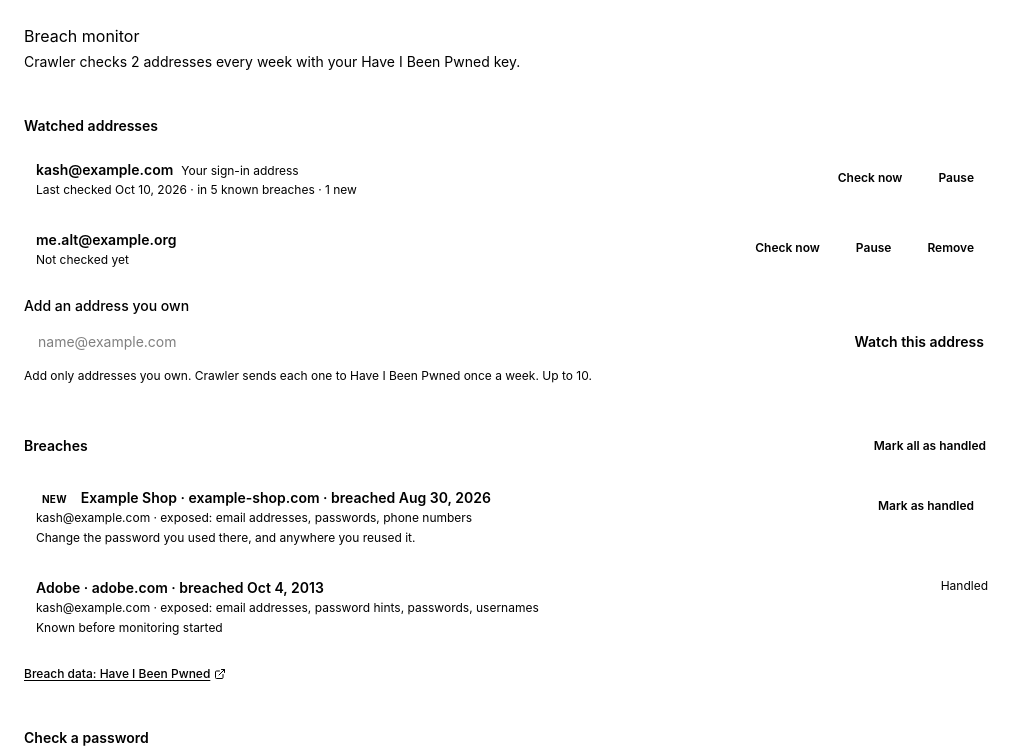
BreachMonitorTab › a 429 from Check now shows its wait message and leaves the row as it was
This screenshot has width=1024, height=753.
Click the button with aria-label "Check now: kash@example.com" at {"x": 870, "y": 178}, box x1=824 y1=160 x2=916 y2=196
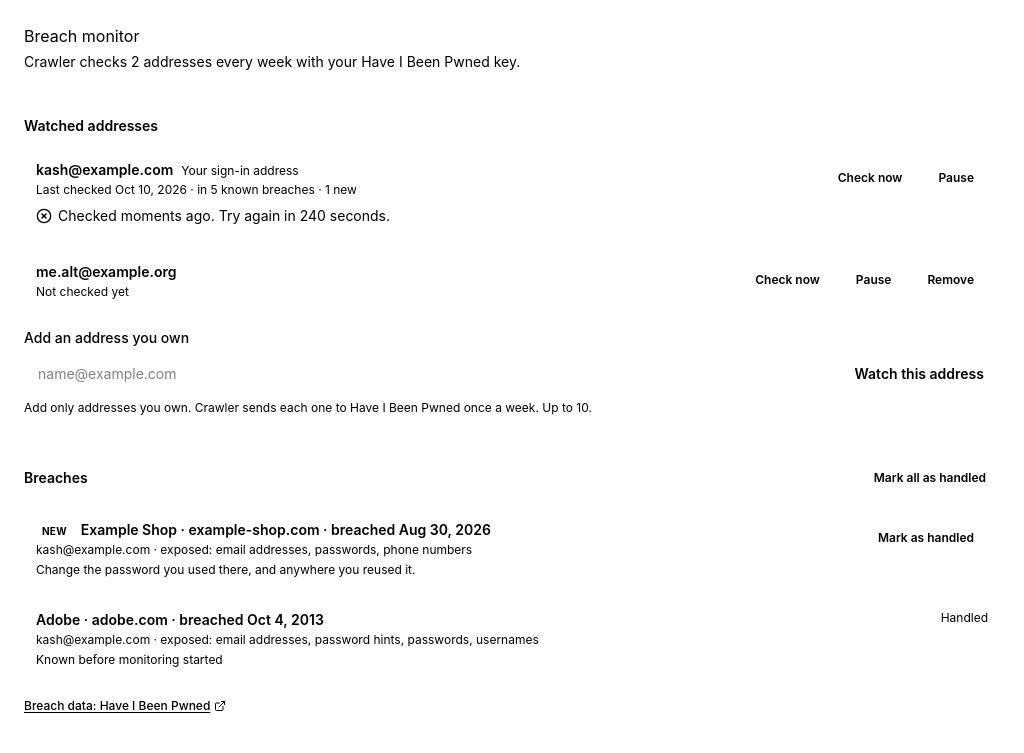
Check: the list item that starts with "kash@example.com" shows "in 5 known breaches · 1 new", box x1=36 y1=182 x2=357 y2=197
Check: the message reads "Checked moments ago. Try again in 240 seconds.", box x1=58 y1=207 x2=390 y2=224
